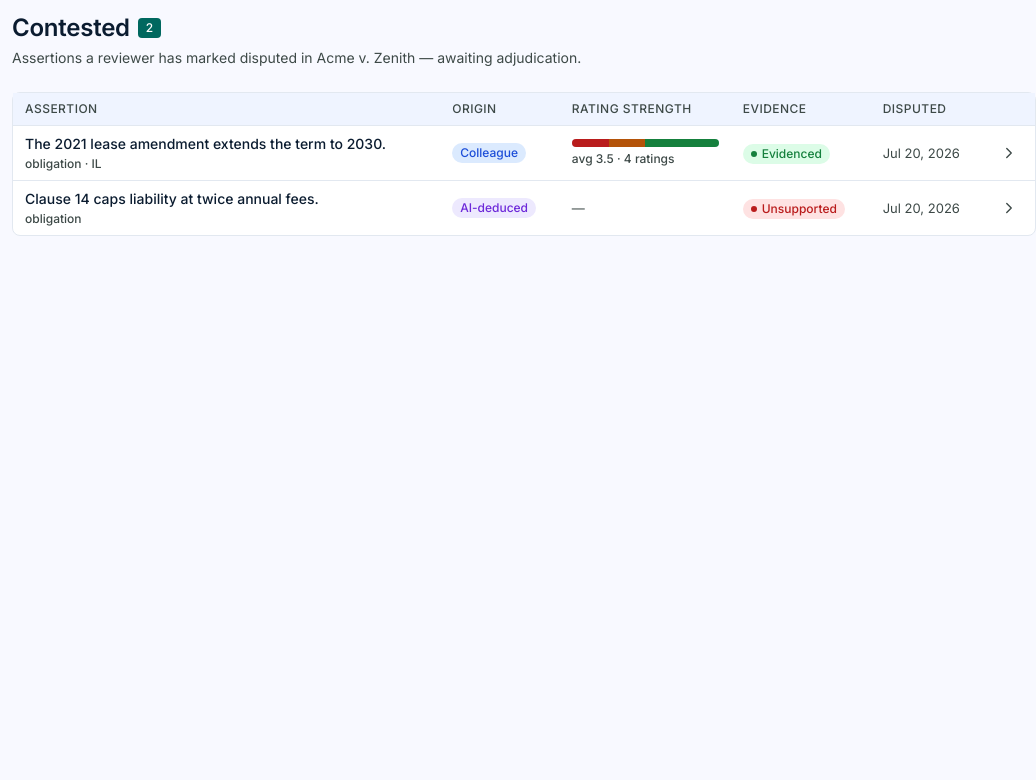
Scenario: ContestedPage › hides adjudication actions from contributors and shows the role note
The width and height of the screenshot is (1036, 780).
Check: the link "The 2021 lease amendment extends the term to 2030." is shown, box [25,134,428,154]
Click the button named "Expand row" in the row of "· IL".
click(1009, 153)  # box [995,139,1023,167]
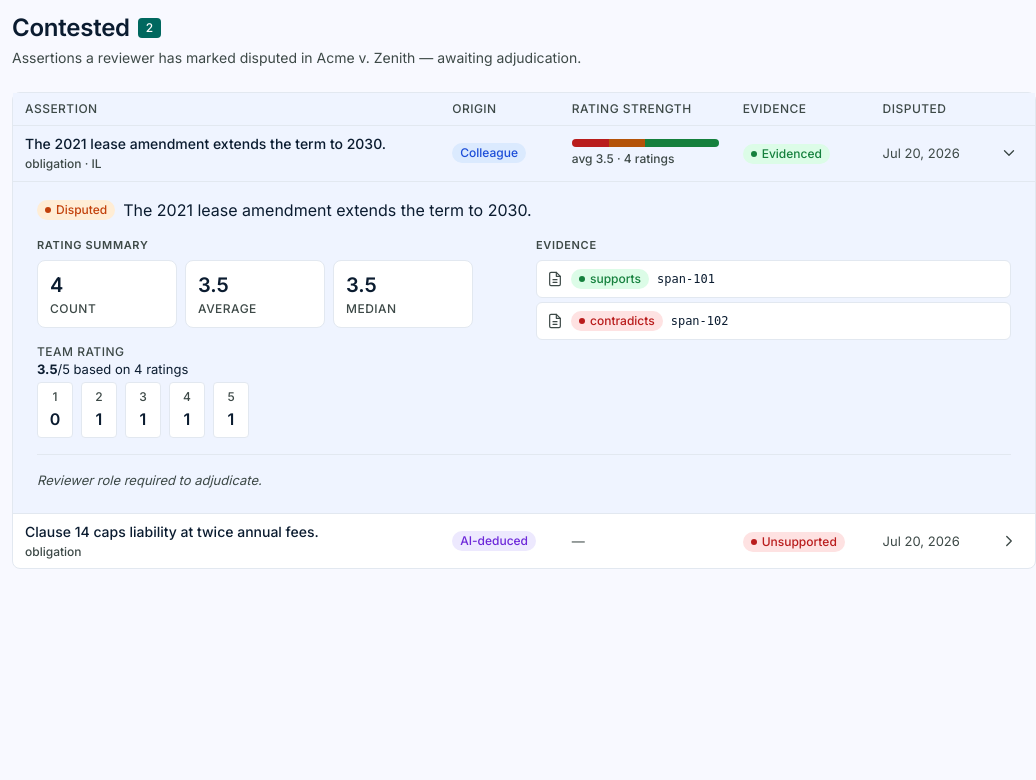
Check: the text "span-101" is shown, box [657,270,715,288]
Check: the text "Reviewer role required to adjudicate." is shown, box [37,454,1011,489]
